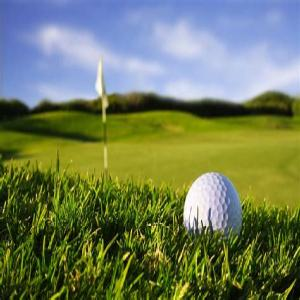Golf: (184, 168, 244, 244)
